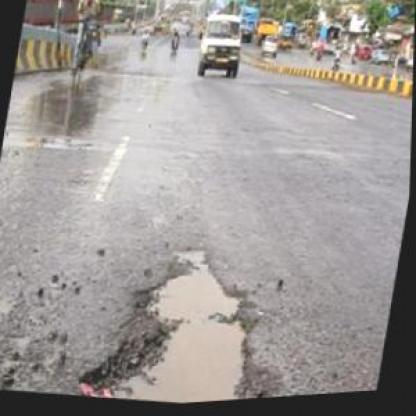pothole: (76, 240, 306, 410)
